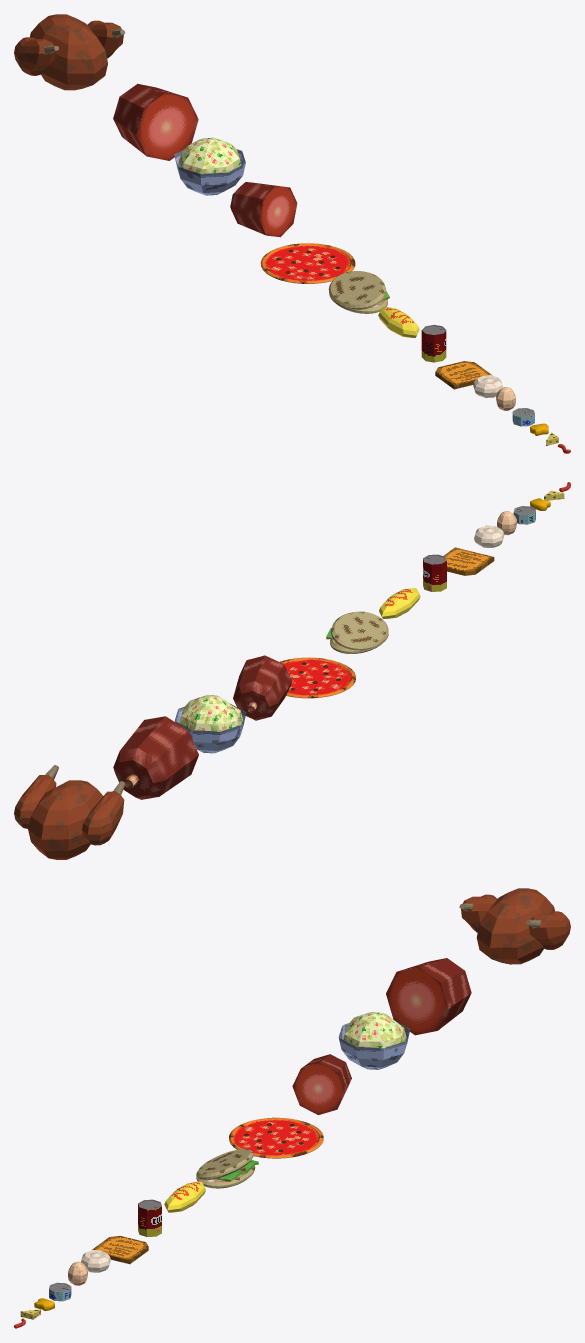
File: canned_mackerel.glb
The picture shows the model from 3 angles, top to bottom: view 1: azimuth 30°, elevation 25°; view 2: azimuth 150°, elevation 25°; view 3: azimuth 330°, elevation 25°; orthographic projection.
Parts seen in each view (by area): view 1: Sphere.004, Cylinder.002, Sphere.003, Circle.001, Cylinder.001, Circle, Plane.001, Cylinder, Sphere.001; view 2: Sphere.004, Cylinder.002, Sphere.003, Cylinder.001, Circle.001, Circle, Plane.001, Cylinder, Sphere.001, Sphere.002; view 3: Sphere.004, Cylinder.002, Sphere.003, Circle.001, Cylinder.001, Circle, Plane.001, Cylinder, Sphere.001.
Part boxes in pixels (<box>): Sphere.004: <box>14,14,125,90</box>; Cylinder.002: <box>113,83,198,160</box>; Sphere.003: <box>174,137,245,195</box>; Circle.001: <box>260,243,355,283</box>; Cylinder.001: <box>230,182,297,237</box>; Circle: <box>328,271,389,313</box>; Plane.001: <box>435,361,491,389</box>; Cylinder: <box>421,325,446,362</box>; Sphere.001: <box>378,307,419,337</box>; Sphere.004: <box>14,765,125,859</box>; Cylinder.002: <box>113,716,198,799</box>; Sphere.003: <box>174,695,246,753</box>; Cylinder.001: <box>233,655,292,720</box>; Circle.001: <box>280,657,355,698</box>; Circle: <box>326,611,388,653</box>; Plane.001: <box>443,547,494,575</box>; Cylinder: <box>423,554,446,591</box>; Sphere.001: <box>379,588,420,618</box>; Sphere.002: <box>474,525,504,547</box>; Sphere.004: <box>459,888,570,964</box>; Cylinder.002: <box>386,958,471,1035</box>; Sphere.003: <box>338,1012,410,1069</box>; Circle.001: <box>229,1117,323,1158</box>; Cylinder.001: <box>292,1054,351,1115</box>; Circle: <box>196,1149,258,1188</box>; Plane.001: <box>92,1236,148,1264</box>; Cylinder: <box>138,1199,161,1236</box>; Sphere.001: <box>164,1181,205,1212</box>.
Size of the model in its own units: 5.52 by 3.87 by 53.56.
Materials: 15 (15 with a texture image).
